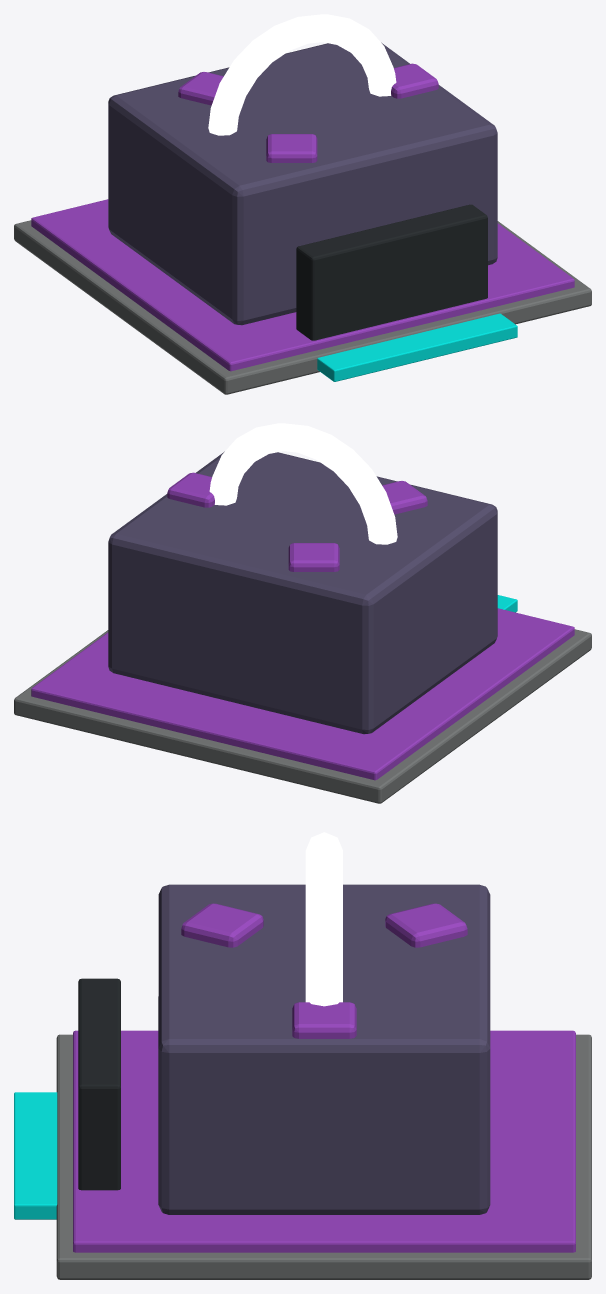
The model's file is SM_Chronolegion_CH_WarFactory.fbx.
3 views of the same model, one above another, from view 1: azimuth 30°, elevation 25°; view 2: azimuth 150°, elevation 25°; view 3: azimuth 270°, elevation 25° (orthographic). The views are drawn at different scales.
Parts seen in each view (by area): view 1: SM_Chronolegion_CH_WarFactory_Hangar, SM_Chronolegion_CH_WarFactory_FoundationTrim, SM_Chronolegion_CH_WarFactory_AssemblyDoor, SM_Chronolegion_CH_WarFactory, SM_Chronolegion_CH_WarFactory_ChronoRing, SM_Chronolegion_CH_WarFactory_ExitRamp, SM_Chronolegion_CH_WarFactory_FloatingNode_2, SM_Chronolegion_CH_WarFactory_FloatingNode_0, SM_Chronolegion_CH_WarFactory_FloatingNode_1; view 2: SM_Chronolegion_CH_WarFactory_Hangar, SM_Chronolegion_CH_WarFactory_FoundationTrim, SM_Chronolegion_CH_WarFactory, SM_Chronolegion_CH_WarFactory_ChronoRing, SM_Chronolegion_CH_WarFactory_FloatingNode_1, SM_Chronolegion_CH_WarFactory_FloatingNode_0, SM_Chronolegion_CH_WarFactory_FloatingNode_2; view 3: SM_Chronolegion_CH_WarFactory_Hangar, SM_Chronolegion_CH_WarFactory_FoundationTrim, SM_Chronolegion_CH_WarFactory, SM_Chronolegion_CH_WarFactory_AssemblyDoor, SM_Chronolegion_CH_WarFactory_ChronoRing, SM_Chronolegion_CH_WarFactory_ExitRamp, SM_Chronolegion_CH_WarFactory_FloatingNode_2, SM_Chronolegion_CH_WarFactory_FloatingNode_1, SM_Chronolegion_CH_WarFactory_FloatingNode_0.
Part boxes in pixels (x1=…): SM_Chronolegion_CH_WarFactory_Hangar: x1=108, y1=42, x2=497, y2=325; SM_Chronolegion_CH_WarFactory_FoundationTrim: x1=31, y1=199, x2=574, y2=371; SM_Chronolegion_CH_WarFactory_AssemblyDoor: x1=296, y1=204, x2=487, y2=340; SM_Chronolegion_CH_WarFactory: x1=14, y1=220, x2=591, y2=394; SM_Chronolegion_CH_WarFactory_ChronoRing: x1=208, y1=14, x2=396, y2=135; SM_Chronolegion_CH_WarFactory_ExitRamp: x1=317, y1=313, x2=517, y2=381; SM_Chronolegion_CH_WarFactory_FloatingNode_2: x1=266, y1=134, x2=317, y2=162; SM_Chronolegion_CH_WarFactory_FloatingNode_0: x1=391, y1=63, x2=438, y2=98; SM_Chronolegion_CH_WarFactory_FloatingNode_1: x1=178, y1=72, x2=223, y2=105; SM_Chronolegion_CH_WarFactory_Hangar: x1=108, y1=451, x2=497, y2=734; SM_Chronolegion_CH_WarFactory_FoundationTrim: x1=31, y1=608, x2=574, y2=780; SM_Chronolegion_CH_WarFactory: x1=14, y1=629, x2=591, y2=803; SM_Chronolegion_CH_WarFactory_ChronoRing: x1=209, y1=423, x2=397, y2=544; SM_Chronolegion_CH_WarFactory_FloatingNode_1: x1=288, y1=543, x2=339, y2=571; SM_Chronolegion_CH_WarFactory_FloatingNode_0: x1=167, y1=472, x2=214, y2=507; SM_Chronolegion_CH_WarFactory_FloatingNode_2: x1=382, y1=481, x2=427, y2=514; SM_Chronolegion_CH_WarFactory_Hangar: x1=158, y1=884, x2=490, y2=1214; SM_Chronolegion_CH_WarFactory_FoundationTrim: x1=73, y1=1030, x2=575, y2=1252; SM_Chronolegion_CH_WarFactory: x1=56, y1=1034, x2=591, y2=1279; SM_Chronolegion_CH_WarFactory_AssemblyDoor: x1=78, y1=978, x2=120, y2=1190; SM_Chronolegion_CH_WarFactory_ChronoRing: x1=305, y1=832, x2=342, y2=1006; SM_Chronolegion_CH_WarFactory_ExitRamp: x1=14, y1=1092, x2=57, y2=1219; SM_Chronolegion_CH_WarFactory_FloatingNode_2: x1=181, y1=903, x2=263, y2=947; SM_Chronolegion_CH_WarFactory_FloatingNode_1: x1=385, y1=903, x2=467, y2=947; SM_Chronolegion_CH_WarFactory_FloatingNode_0: x1=292, y1=1002, x2=356, y2=1038.
Size of what is drawn, in the model's own units: 800 by 864 by 534.
